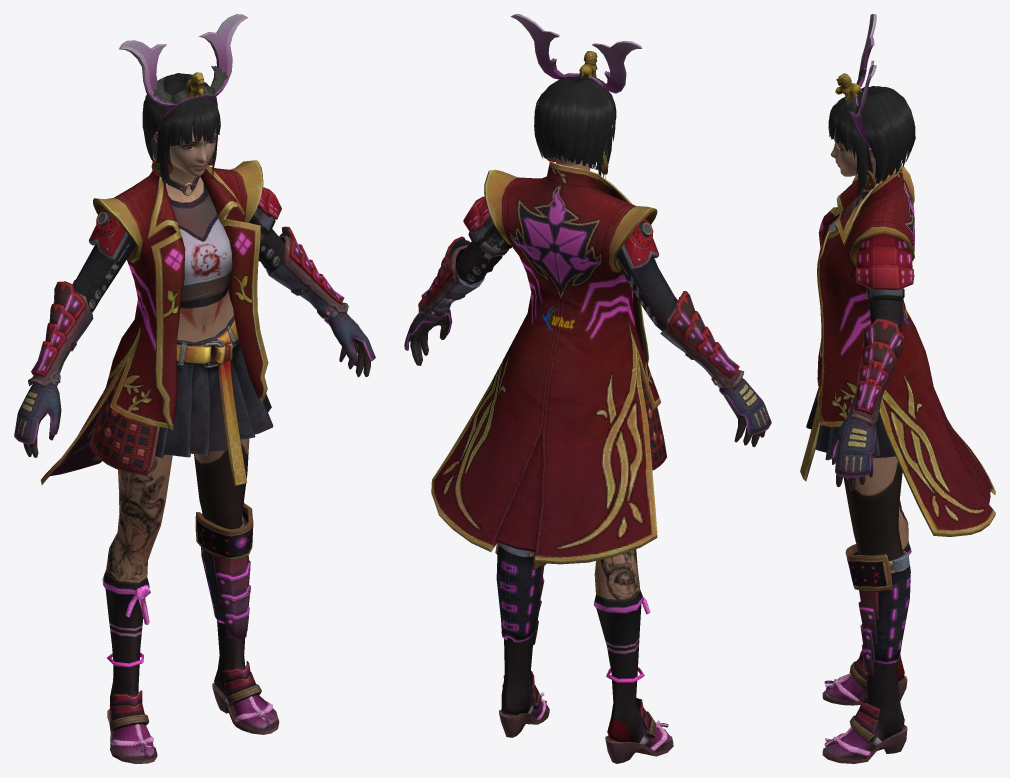
File: Warringstates Female.obj
3 views of the same model, side by side, from view 1: azimuth 30°, elevation 25°; view 2: azimuth 150°, elevation 25°; view 3: azimuth 270°, elevation 25° (orthographic). The views are drawn at different scales.
Visible parts, largest first — view 1: Female_Lobby_Bottom_Cos_Warringstates.004, Female_Lobby_Bottom_Cos_Warringstates.001, Female_Lobby_Bottom_Cos_Warringstates.002, Female_Lobby_Bottom_Cos_Warringstates, Female_Lobby_Bottom_Cos_Warringstates.003, Female_Lobby_Bottom_Cos_Warringstates.006, Female_Lobby_Bottom_Cos_Warringstates.005; view 2: Female_Lobby_Bottom_Cos_Warringstates.004, Female_Lobby_Bottom_Cos_Warringstates.001, Female_Lobby_Bottom_Cos_Warringstates, Female_Lobby_Bottom_Cos_Warringstates.006, Female_Lobby_Bottom_Cos_Warringstates.003, Female_Lobby_Bottom_Cos_Warringstates.002; view 3: Female_Lobby_Bottom_Cos_Warringstates.004, Female_Lobby_Bottom_Cos_Warringstates.001, Female_Lobby_Bottom_Cos_Warringstates, Female_Lobby_Bottom_Cos_Warringstates.002, Female_Lobby_Bottom_Cos_Warringstates.003, Female_Lobby_Bottom_Cos_Warringstates.006, Female_Lobby_Bottom_Cos_Warringstates.005.
Part boxes in pixels (x1=…): Female_Lobby_Bottom_Cos_Warringstates.004: x1=14, y1=160, x2=375, y2=485; Female_Lobby_Bottom_Cos_Warringstates.001: x1=90, y1=316, x2=278, y2=757; Female_Lobby_Bottom_Cos_Warringstates.002: x1=106, y1=165, x2=249, y2=582; Female_Lobby_Bottom_Cos_Warringstates: x1=142, y1=73, x2=220, y2=186; Female_Lobby_Bottom_Cos_Warringstates.003: x1=107, y1=661, x2=279, y2=763; Female_Lobby_Bottom_Cos_Warringstates.006: x1=119, y1=14, x2=247, y2=176; Female_Lobby_Bottom_Cos_Warringstates.005: x1=154, y1=126, x2=218, y2=176; Female_Lobby_Bottom_Cos_Warringstates.004: x1=404, y1=161, x2=771, y2=564; Female_Lobby_Bottom_Cos_Warringstates.001: x1=495, y1=368, x2=672, y2=748; Female_Lobby_Bottom_Cos_Warringstates: x1=534, y1=76, x2=616, y2=178; Female_Lobby_Bottom_Cos_Warringstates.006: x1=510, y1=14, x2=642, y2=174; Female_Lobby_Bottom_Cos_Warringstates.003: x1=499, y1=671, x2=673, y2=763; Female_Lobby_Bottom_Cos_Warringstates.002: x1=556, y1=159, x2=640, y2=599; Female_Lobby_Bottom_Cos_Warringstates.004: x1=817, y1=164, x2=995, y2=536; Female_Lobby_Bottom_Cos_Warringstates.001: x1=800, y1=342, x2=911, y2=757; Female_Lobby_Bottom_Cos_Warringstates: x1=828, y1=86, x2=915, y2=197; Female_Lobby_Bottom_Cos_Warringstates.002: x1=843, y1=168, x2=908, y2=560; Female_Lobby_Bottom_Cos_Warringstates.003: x1=822, y1=650, x2=907, y2=763; Female_Lobby_Bottom_Cos_Warringstates.006: x1=835, y1=14, x2=876, y2=190; Female_Lobby_Bottom_Cos_Warringstates.005: x1=830, y1=126, x2=875, y2=176.
Bounding box in the file's own units: 0.5648 × 1.06 × 0.2761.
Materials: 7 (7 with a texture image).
